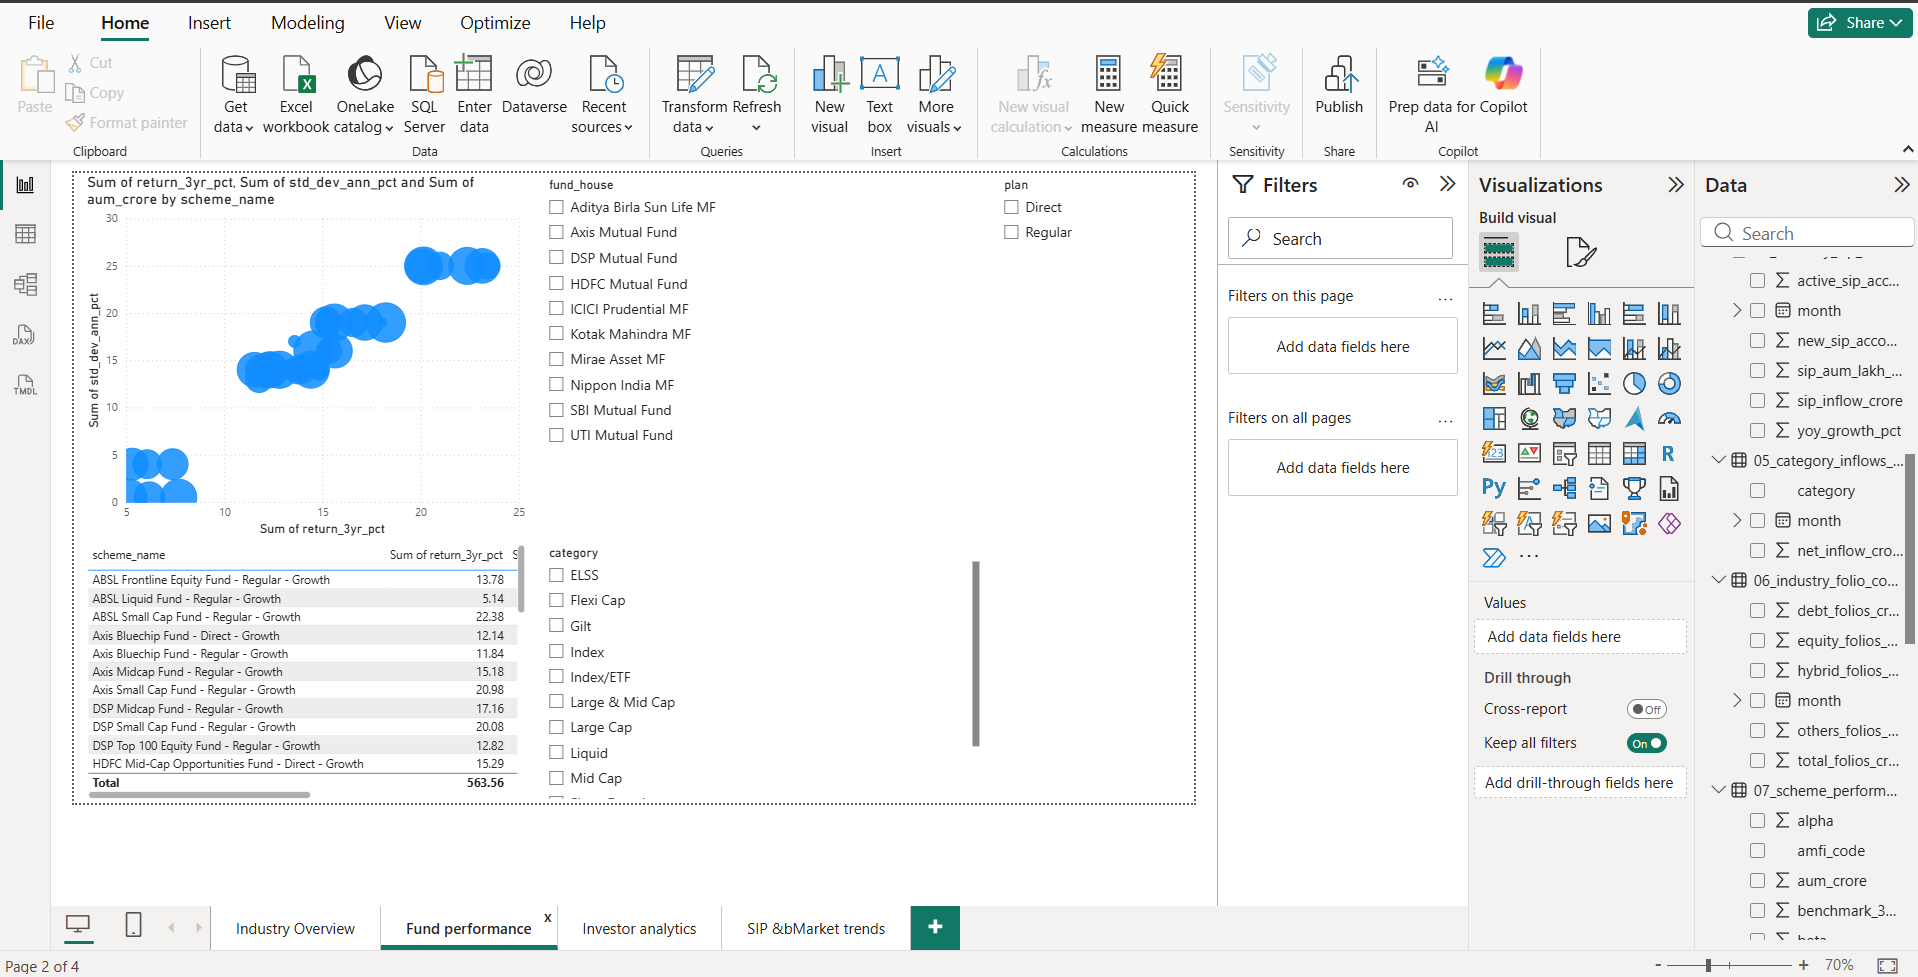

The dashboard page shown, as its layout file describes it:
{"tool":"powerbi","page":{"name":"Fund performance","canvas":[1280,720],"ordinal":1},"visuals":[{"type":"scatterChart","fields":{"X":["Sum(07_scheme_performance_clean.return_3yr_pct)"],"Y":["Sum(07_scheme_performance_clean.std_dev_ann_pct)"],"Size":["Sum(07_scheme_performance_clean.aum_crore)"],"Category":["07_scheme_performance_clean.scheme_name"]},"box":[9.6,0,510.5,419.9],"z":0},{"type":"tableEx","fields":{"Values":["07_scheme_performance_clean.scheme_name","Sum(07_scheme_performance_clean.return_3yr_pct)","Sum(07_scheme_performance_clean.sharpe_ratio)","Sum(07_scheme_performance_clean.expense_ratio_pct)","Sum(07_scheme_performance_clean.max_drawdown_pct)"]},"box":[9.6,419.9,510.5,300.5],"z":1000},{"type":"slicer","fields":{"Values":["07_scheme_performance_clean.fund_house"]},"box":[530,0,510,420],"z":2000},{"type":"slicer","fields":{"Values":["07_scheme_performance_clean.category"]},"box":[530,420,510,300],"z":3000},{"type":"slicer","fields":{"Values":["07_scheme_performance_clean.plan"]},"box":[1050,0,230,420],"z":4000}]}

Visuals, with their boxes on the page's 1280x720 design canvas (x1, y1, x2, y2). These are canvas units, not pixel positions in the 1918x977 screenshot, which may show the page scaled, cropped or inside an application window:
scatterChart - Sum(07_scheme_performance_clean.return_3yr_pct) x Sum(07_scheme_performance_clean.std_dev_ann_pct): bbox=[10, 0, 520, 420]
tableEx - 07_scheme_performance_clean.scheme_name x Sum(07_scheme_performance_clean.return_3yr_pct): bbox=[10, 420, 520, 720]
slicer - 07_scheme_performance_clean.fund_house: bbox=[530, 0, 1040, 420]
slicer - 07_scheme_performance_clean.category: bbox=[530, 420, 1040, 720]
slicer - 07_scheme_performance_clean.plan: bbox=[1050, 0, 1280, 420]
